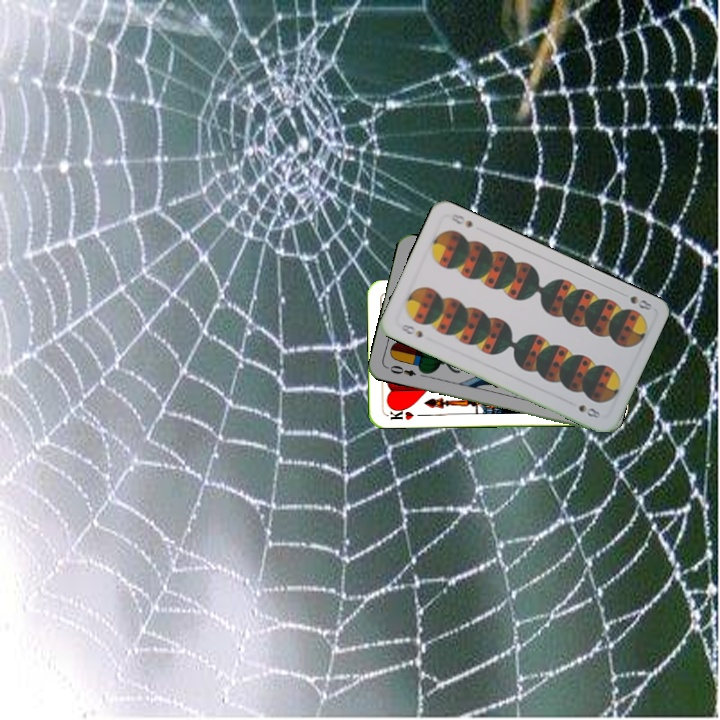EO: (383, 361, 418, 379)
HK: (383, 404, 416, 423)
S8: (616, 288, 656, 313), (397, 320, 425, 341)
